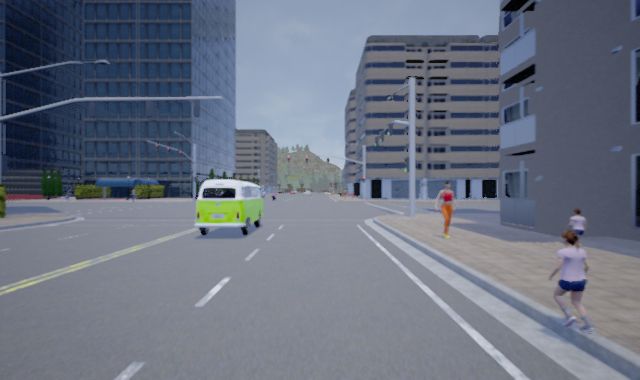pedestrian: (546, 229, 589, 331), (433, 180, 457, 239), (565, 208, 587, 253)
traffic_light: (403, 158, 409, 173), (387, 124, 393, 137), (379, 131, 384, 143), (374, 136, 378, 147), (304, 153, 308, 162), (286, 152, 290, 161), (326, 154, 329, 162)
vehicle: (193, 179, 263, 235)
